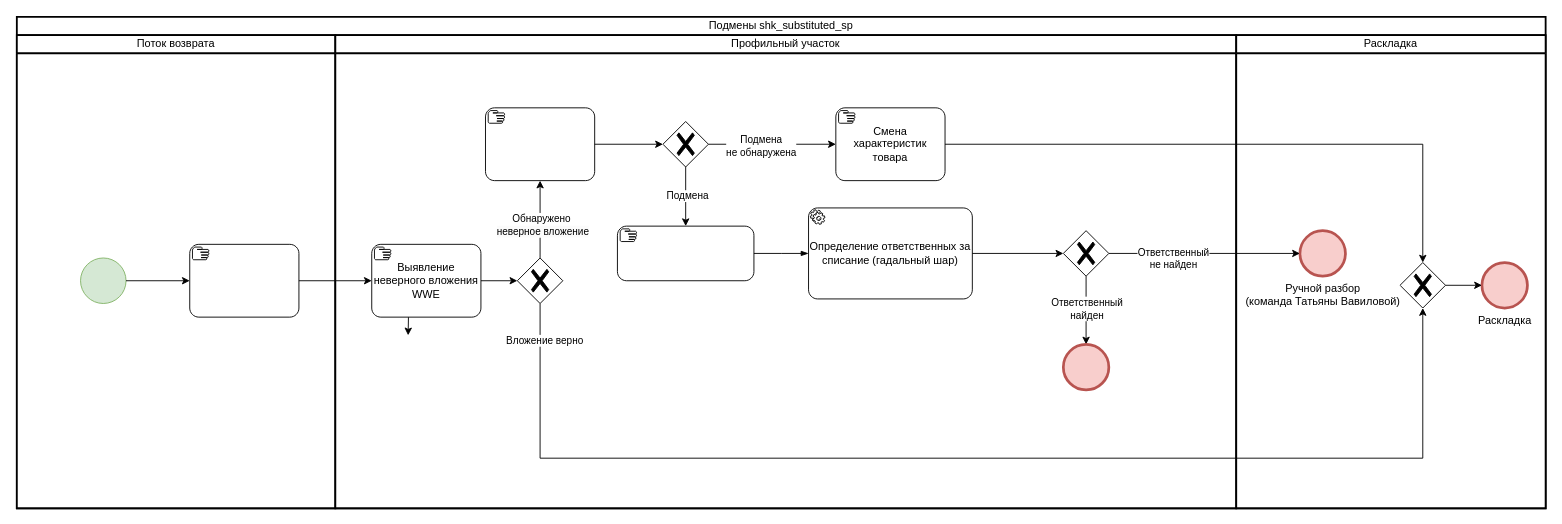
Image size: 1562x524. Some labels were removed from this diagram. The centre of each missing label's shape, as x and y in pixels:
Возврат приезжает на склад: pixel 103 280
Выбор типа подмены: pixel 685 253
Определение подмены: pixel 540 144
Переложить в возвратную коробку: pixel 244 280
списываем ШК с 29 лостризоном, создаем новый стикер обезлички: pixel 1085 367
